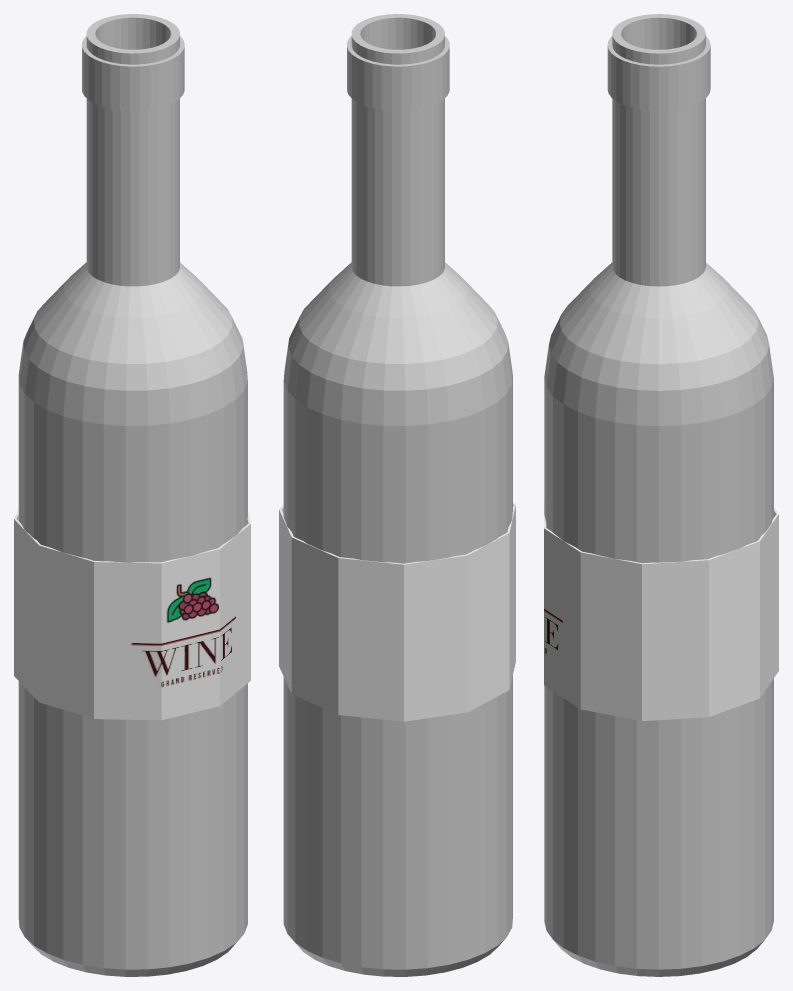
Rendered from wine-glossy.gltf.
3 views of the same model, side by side, from view 1: azimuth 30°, elevation 25°; view 2: azimuth 150°, elevation 25°; view 3: azimuth 270°, elevation 25° (orthographic).
Parts seen in each view (by area): view 1: Circle, Cylinder; view 2: Circle, Cylinder; view 3: Circle, Cylinder.
Boxes of the visible parts, left/top/right/bottom form: Circle: left=18, top=14, right=247, bottom=976; Cylinder: left=14, top=509, right=250, bottom=720; Circle: left=283, top=14, right=512, bottom=976; Cylinder: left=279, top=502, right=515, bottom=721; Circle: left=544, top=14, right=773, bottom=976; Cylinder: left=544, top=500, right=778, bottom=721.
Bounding box in the file's own units: 0.587 × 2.45 × 0.581.
